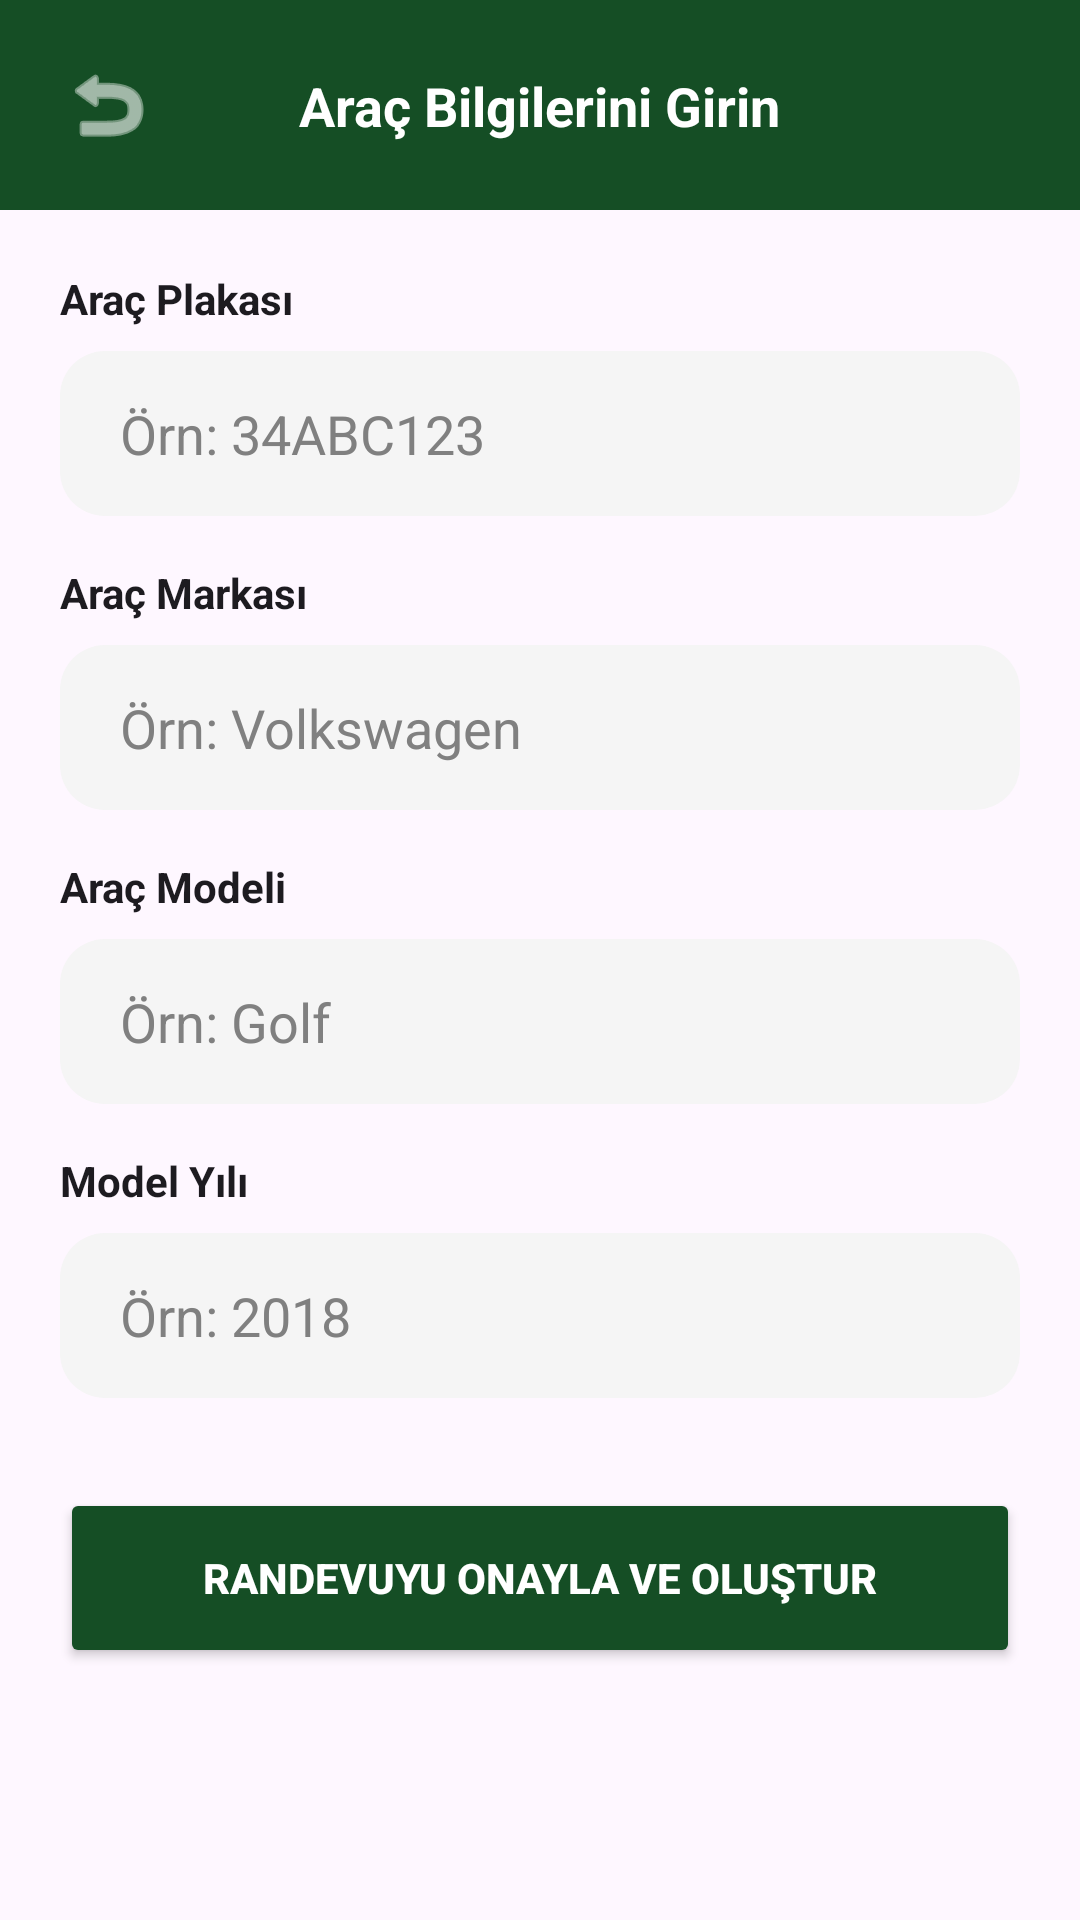

Named icons in this screenshot (1080×1920) and their bounding boxes, (x1, y1, x2, y2):
revert: (75, 74, 144, 137)
